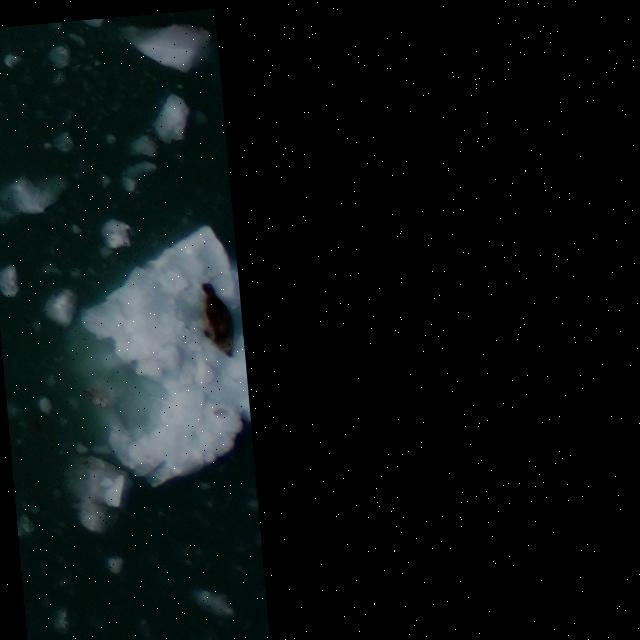seal: (196, 277, 240, 365)
